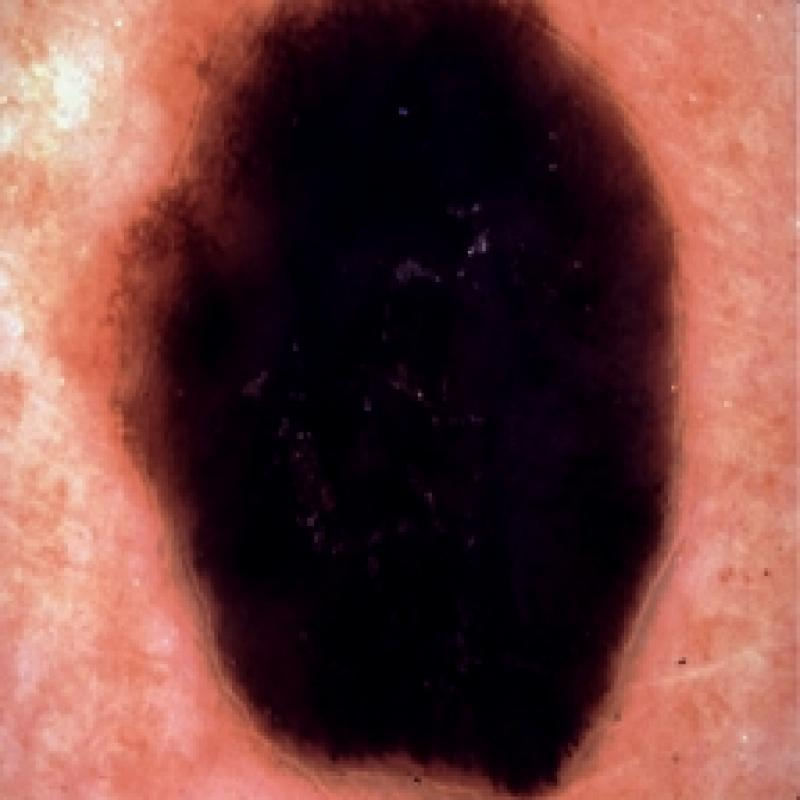malignant: (100, 2, 689, 791), (41, 727, 42, 728)
